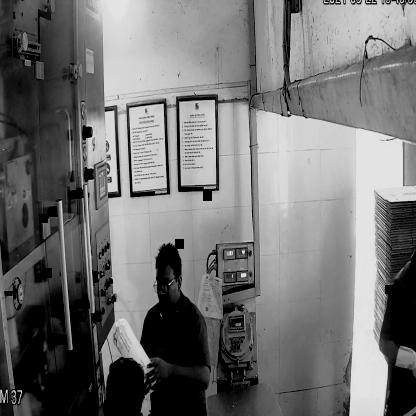goggles: (151, 275, 178, 297)
